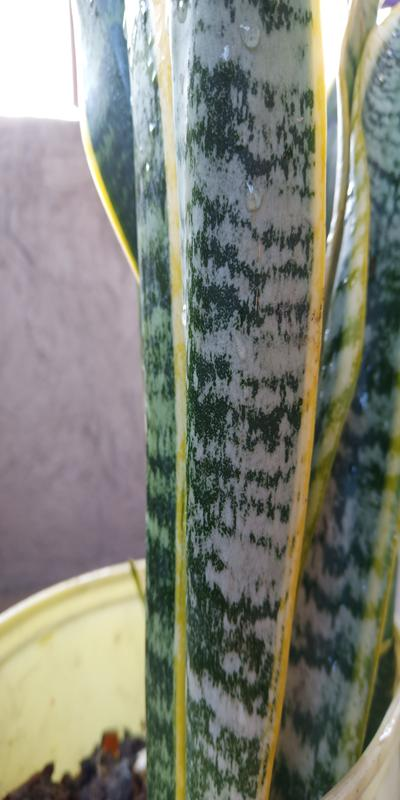Snake plant: (69, 2, 384, 770)
